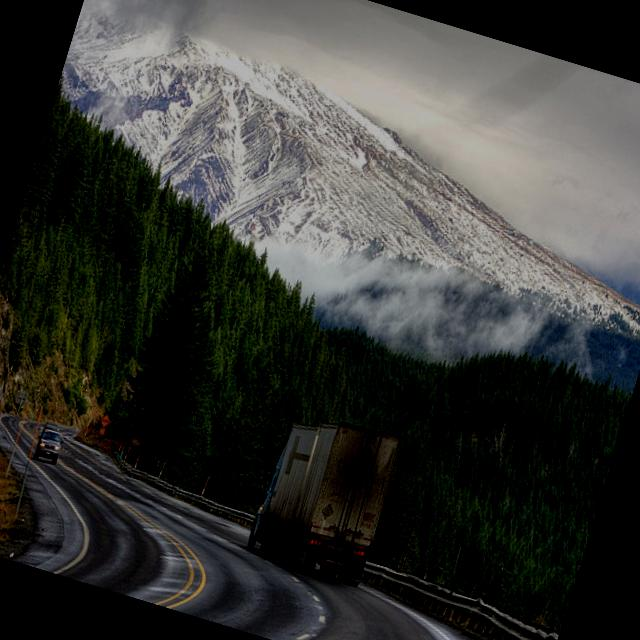Vehicle: (238, 402, 406, 590), (31, 426, 66, 466)
